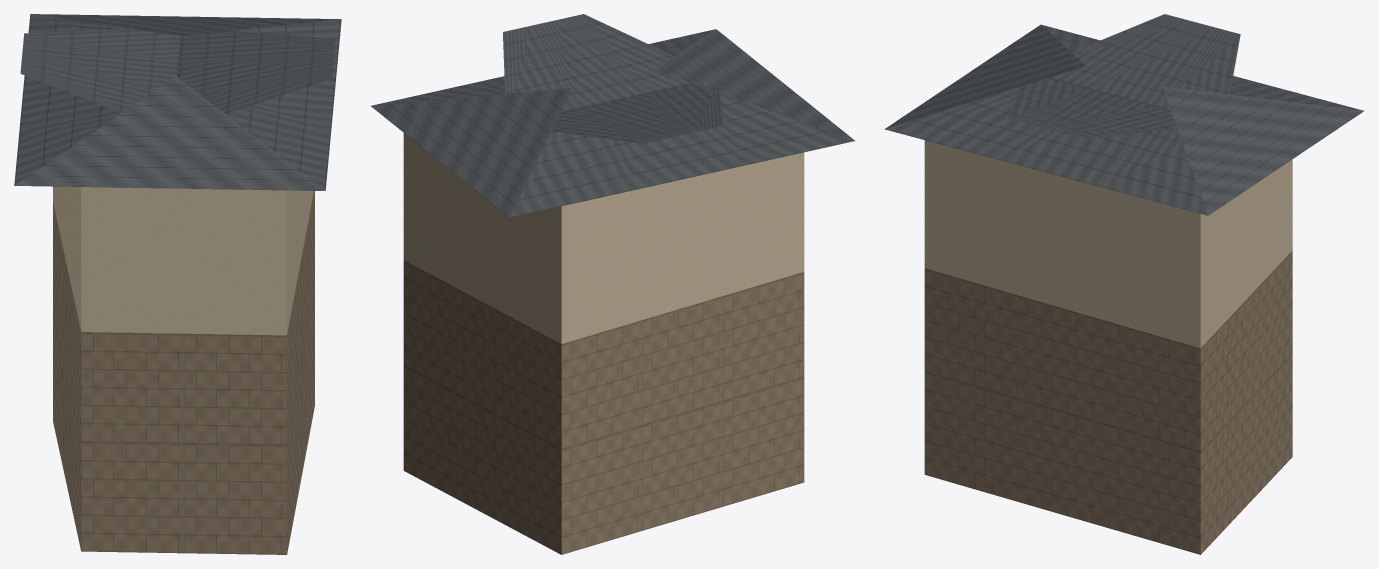
Rendered from bld_c-34_-5_607.gltf.
3 views of the same model, side by side, from view 1: azimuth 30°, elevation 25°; view 2: azimuth 150°, elevation 25°; view 3: azimuth 270°, elevation 25° (orthographic). The views are drawn at different scales.
Parts seen in each view (by area): view 1: bld_c-34_-5_607; view 2: bld_c-34_-5_607; view 3: bld_c-34_-5_607.
Boxes of the visible parts, <box> form: bld_c-34_-5_607: <box>14,14,341,554</box>; bld_c-34_-5_607: <box>371,14,854,554</box>; bld_c-34_-5_607: <box>885,14,1363,554</box>.
Bounding box in the file's own units: 9.4 × 9.1 × 9.98.
3 materials, 3 textured.
